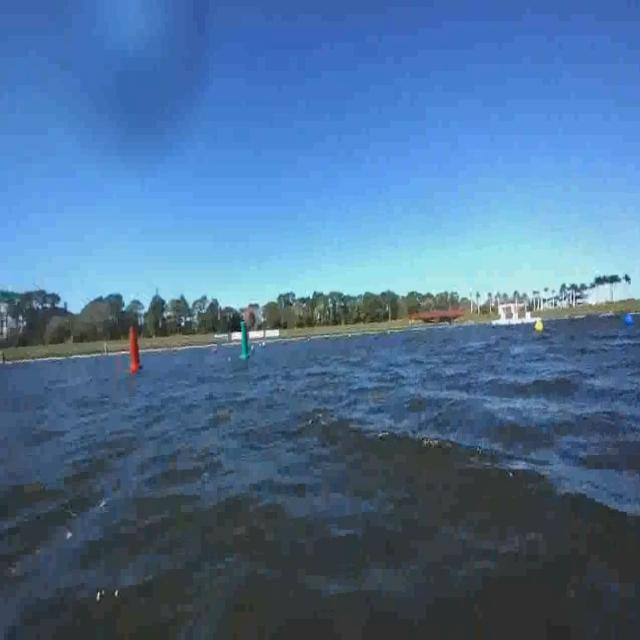green-column-buoy: (236, 312, 252, 366)
red-column-buoy: (119, 318, 144, 382)
